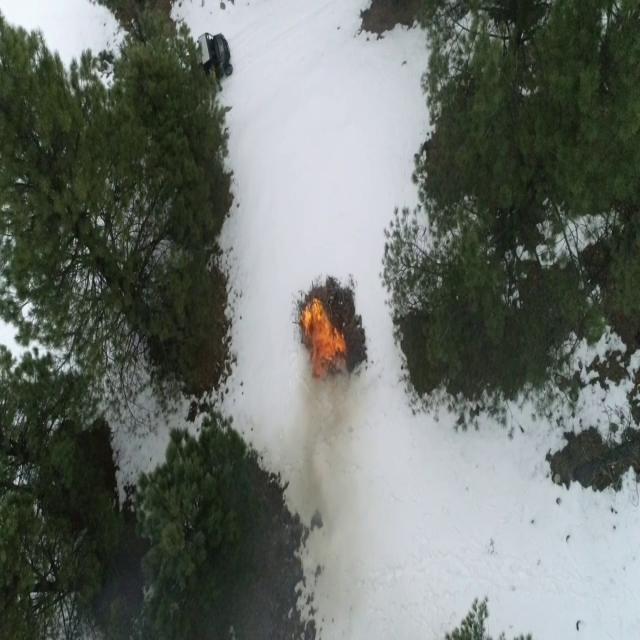fire: (300, 298, 346, 377)
